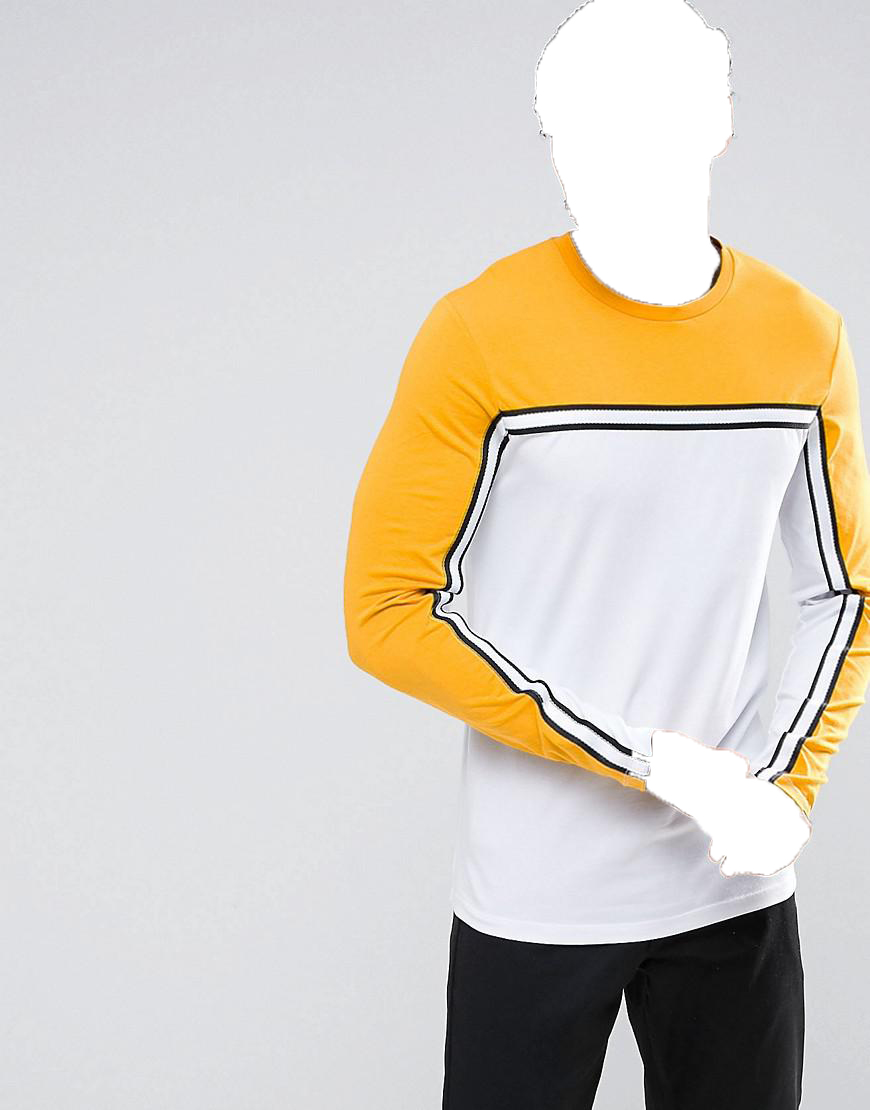teeshirt: (339, 235, 870, 953)
